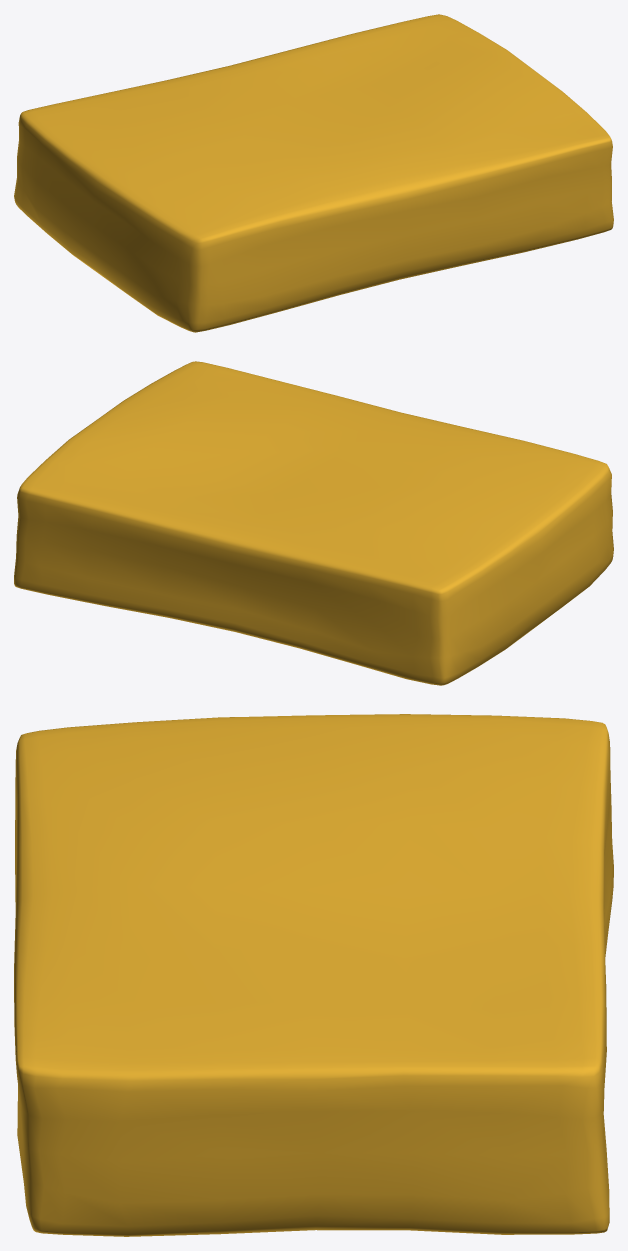
Rendered from sponge.fbx.
The picture shows the model from 3 angles, top to bottom: view 1: azimuth 30°, elevation 25°; view 2: azimuth 150°, elevation 25°; view 3: azimuth 270°, elevation 25°; orthographic projection. The views are drawn at different scales.
Parts seen in each view (by area): view 1: Cube; view 2: Cube; view 3: Cube.
Boxes of the visible parts, bbox=[...] form: Cube: bbox=[14, 14, 613, 332]; Cube: bbox=[14, 361, 613, 685]; Cube: bbox=[14, 714, 613, 1236].
Bounding box in the file's own units: 757 × 173 × 524.
